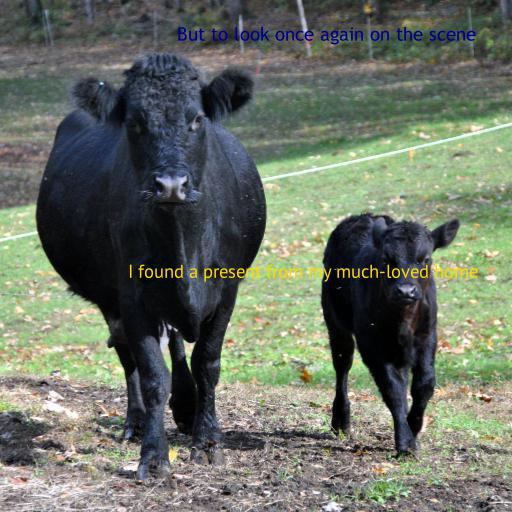PT Sans: (128, 264, 478, 282)
Trebuchet MS: (176, 26, 476, 45)
